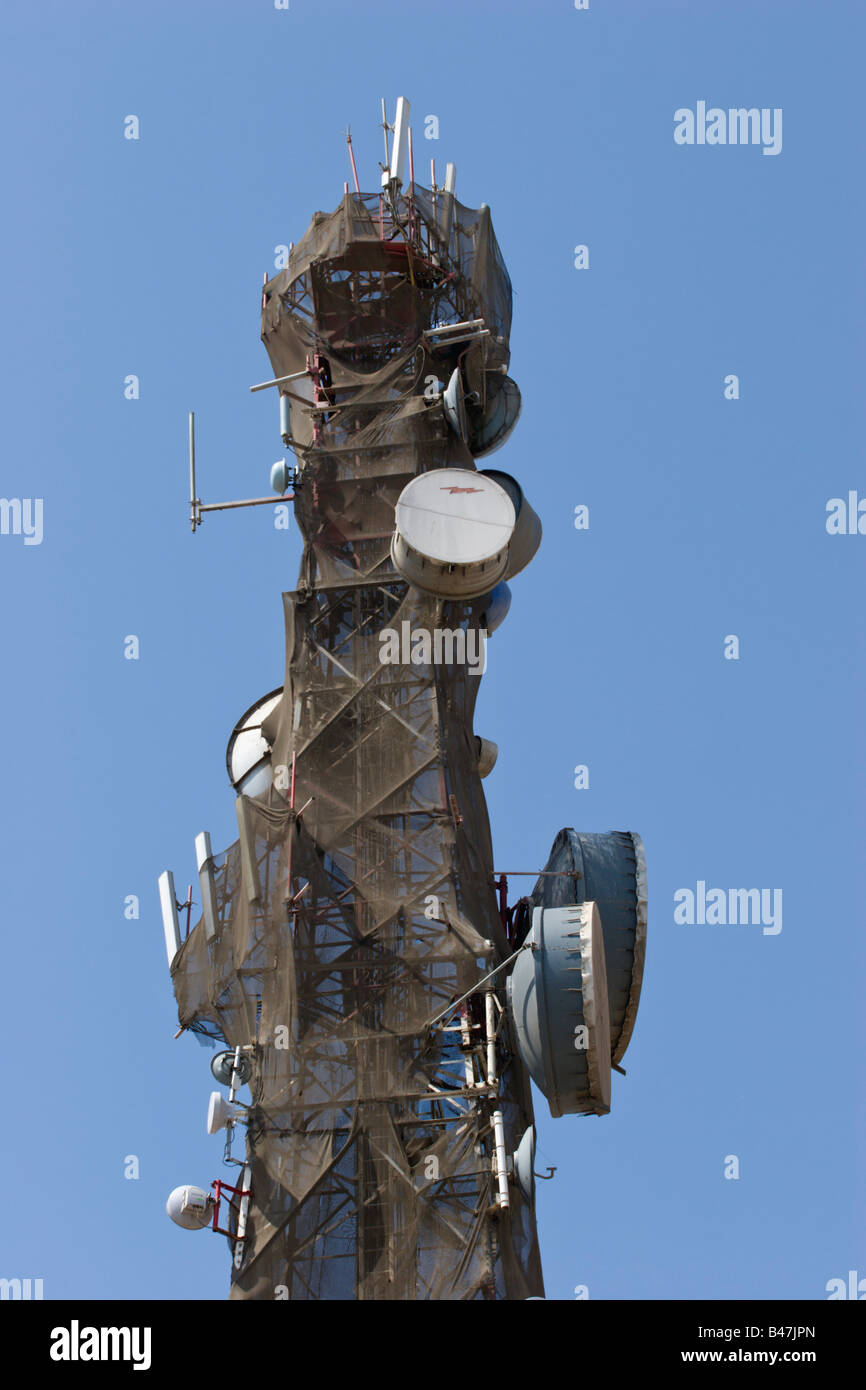ba: (495, 899, 632, 1144), (377, 452, 541, 611)
